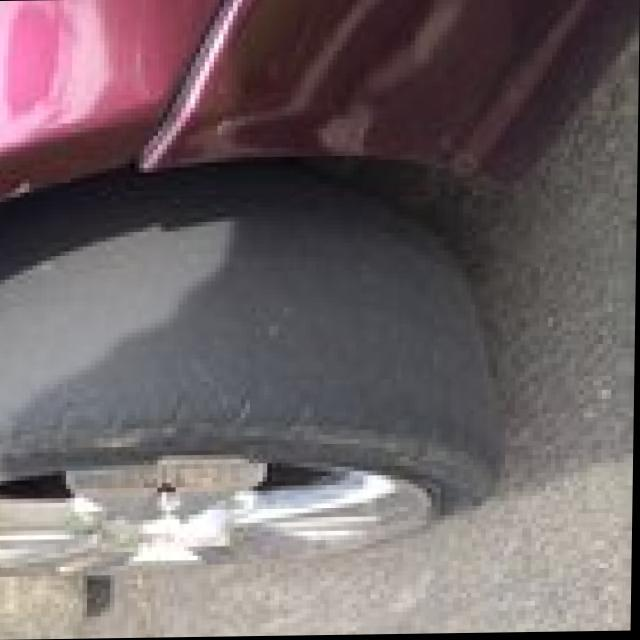Flat spots: (0, 185, 489, 437)
